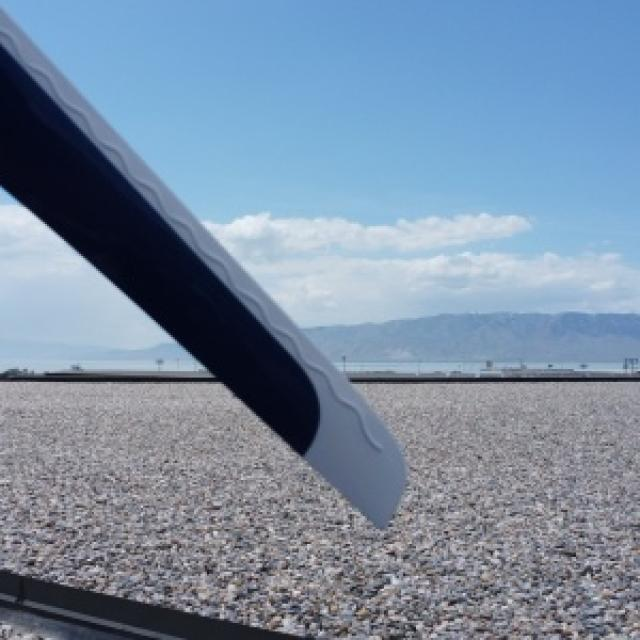healthy: (0, 11, 401, 523)
